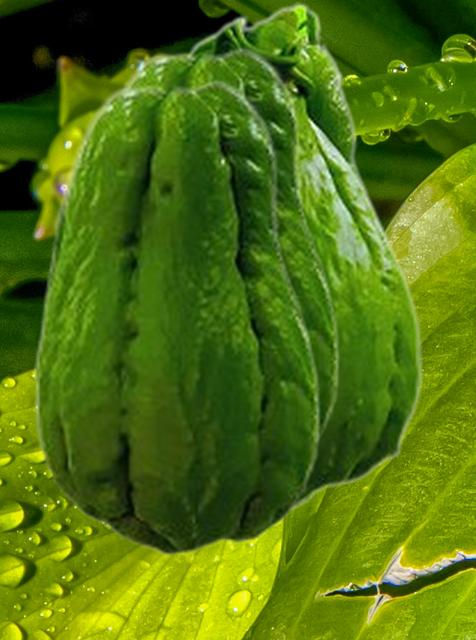sayote: (34, 78, 320, 556), (184, 2, 423, 523), (119, 46, 339, 445)
